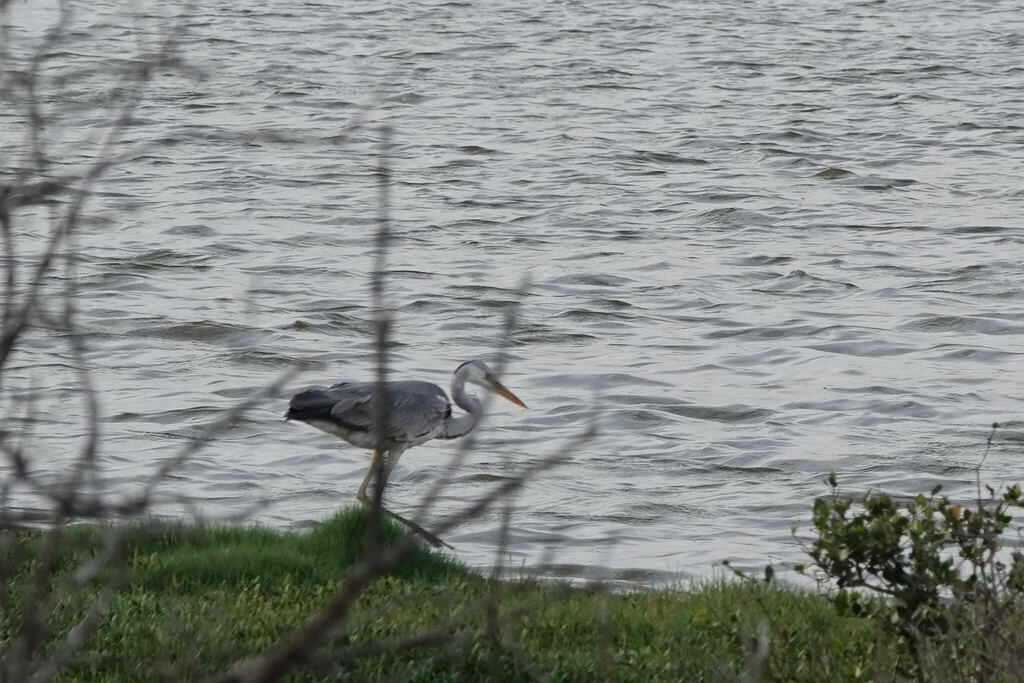heron: (283, 361, 531, 566)
